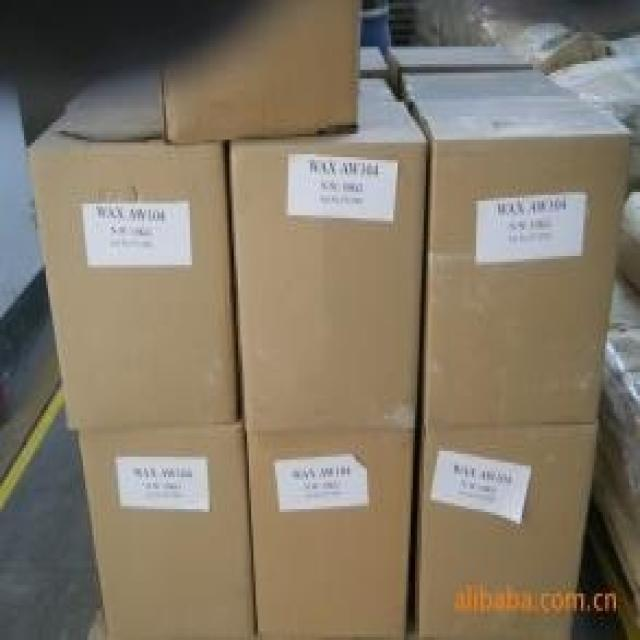box: (415, 96, 631, 425), (26, 122, 240, 431), (232, 105, 428, 431), (417, 428, 601, 637), (79, 428, 253, 637), (247, 428, 415, 637), (159, 0, 360, 140), (389, 47, 531, 87), (404, 67, 574, 99), (360, 47, 389, 73), (363, 79, 393, 102)
